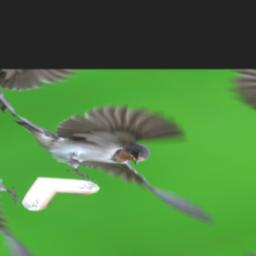Swallow: (5, 81, 256, 242)
